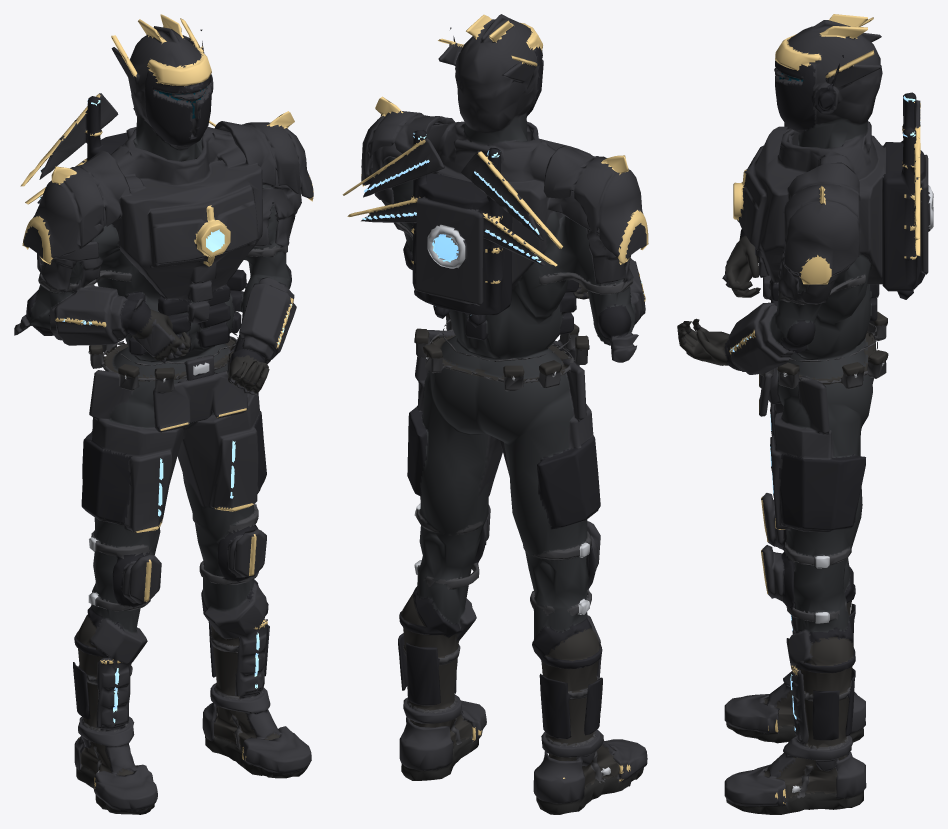
The model's file is operative_mk4.glb.
3 renders of one model, left to right at view 1: azimuth 30°, elevation 25°; view 2: azimuth 150°, elevation 25°; view 3: azimuth 270°, elevation 25°, orthographic. The views are drawn at different scales.
Visible parts, largest first — view 1: Operative; view 2: Operative; view 3: Operative.
Boxes of the visible parts, x1,y1,x2,y2 form: Operative: (14,14,313,814); Operative: (342,14,648,814); Operative: (677,14,933,814).
Size of the model in its own units: 0.7724 by 1.98 by 0.6155.
